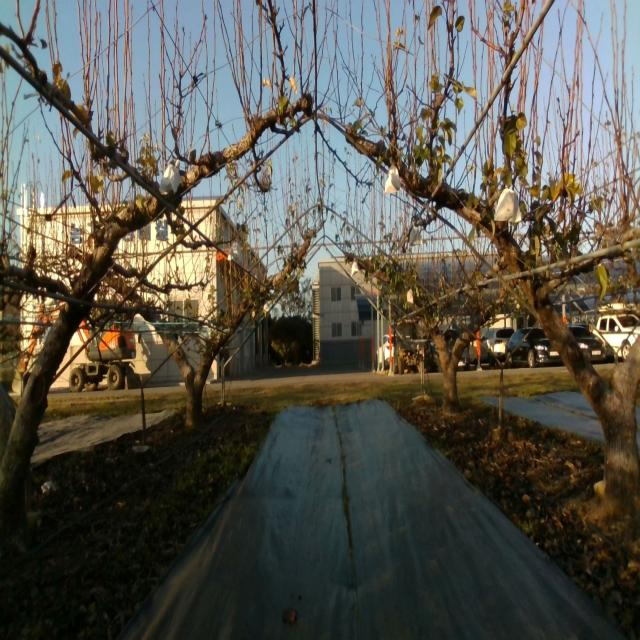pearbags: (493, 188, 521, 224), (158, 164, 180, 194), (384, 164, 402, 195), (408, 219, 423, 249), (227, 242, 243, 269)
